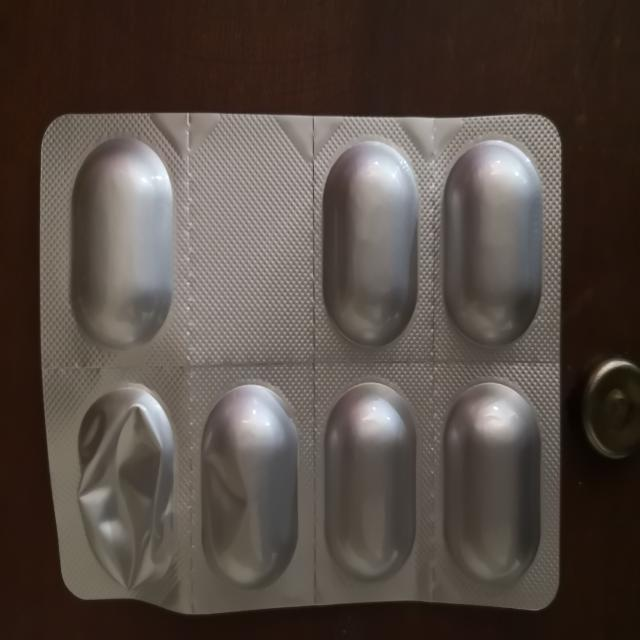Empty: (61, 386, 185, 595)
Pill: (65, 133, 179, 352), (438, 135, 549, 354), (318, 131, 424, 354), (438, 373, 547, 587), (194, 383, 304, 587), (320, 382, 420, 583)
